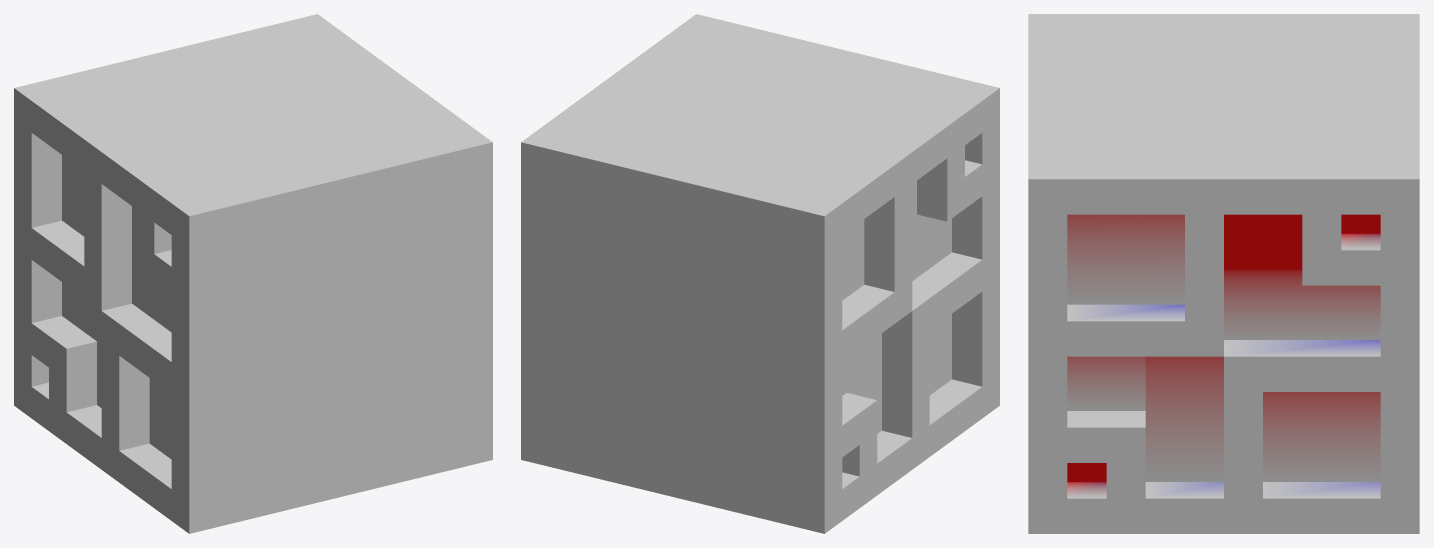
The model's file is Tile_Puzzle_4(TEST).fbx.
3 renders of one model, left to right at view 1: azimuth 30°, elevation 25°; view 2: azimuth 150°, elevation 25°; view 3: azimuth 270°, elevation 25°, orthographic. The views are drawn at different scales.
Visible parts, largest first — view 1: Tile_Puzzle_4; view 2: Tile_Puzzle_4; view 3: Tile_Puzzle_4.
Boxes of the visible parts, x1,y1,x2,y2 form: Tile_Puzzle_4: (14, 14, 492, 533); Tile_Puzzle_4: (521, 14, 999, 533); Tile_Puzzle_4: (1028, 14, 1419, 533).
Size of the model in its own units: 200 by 200 by 200.
